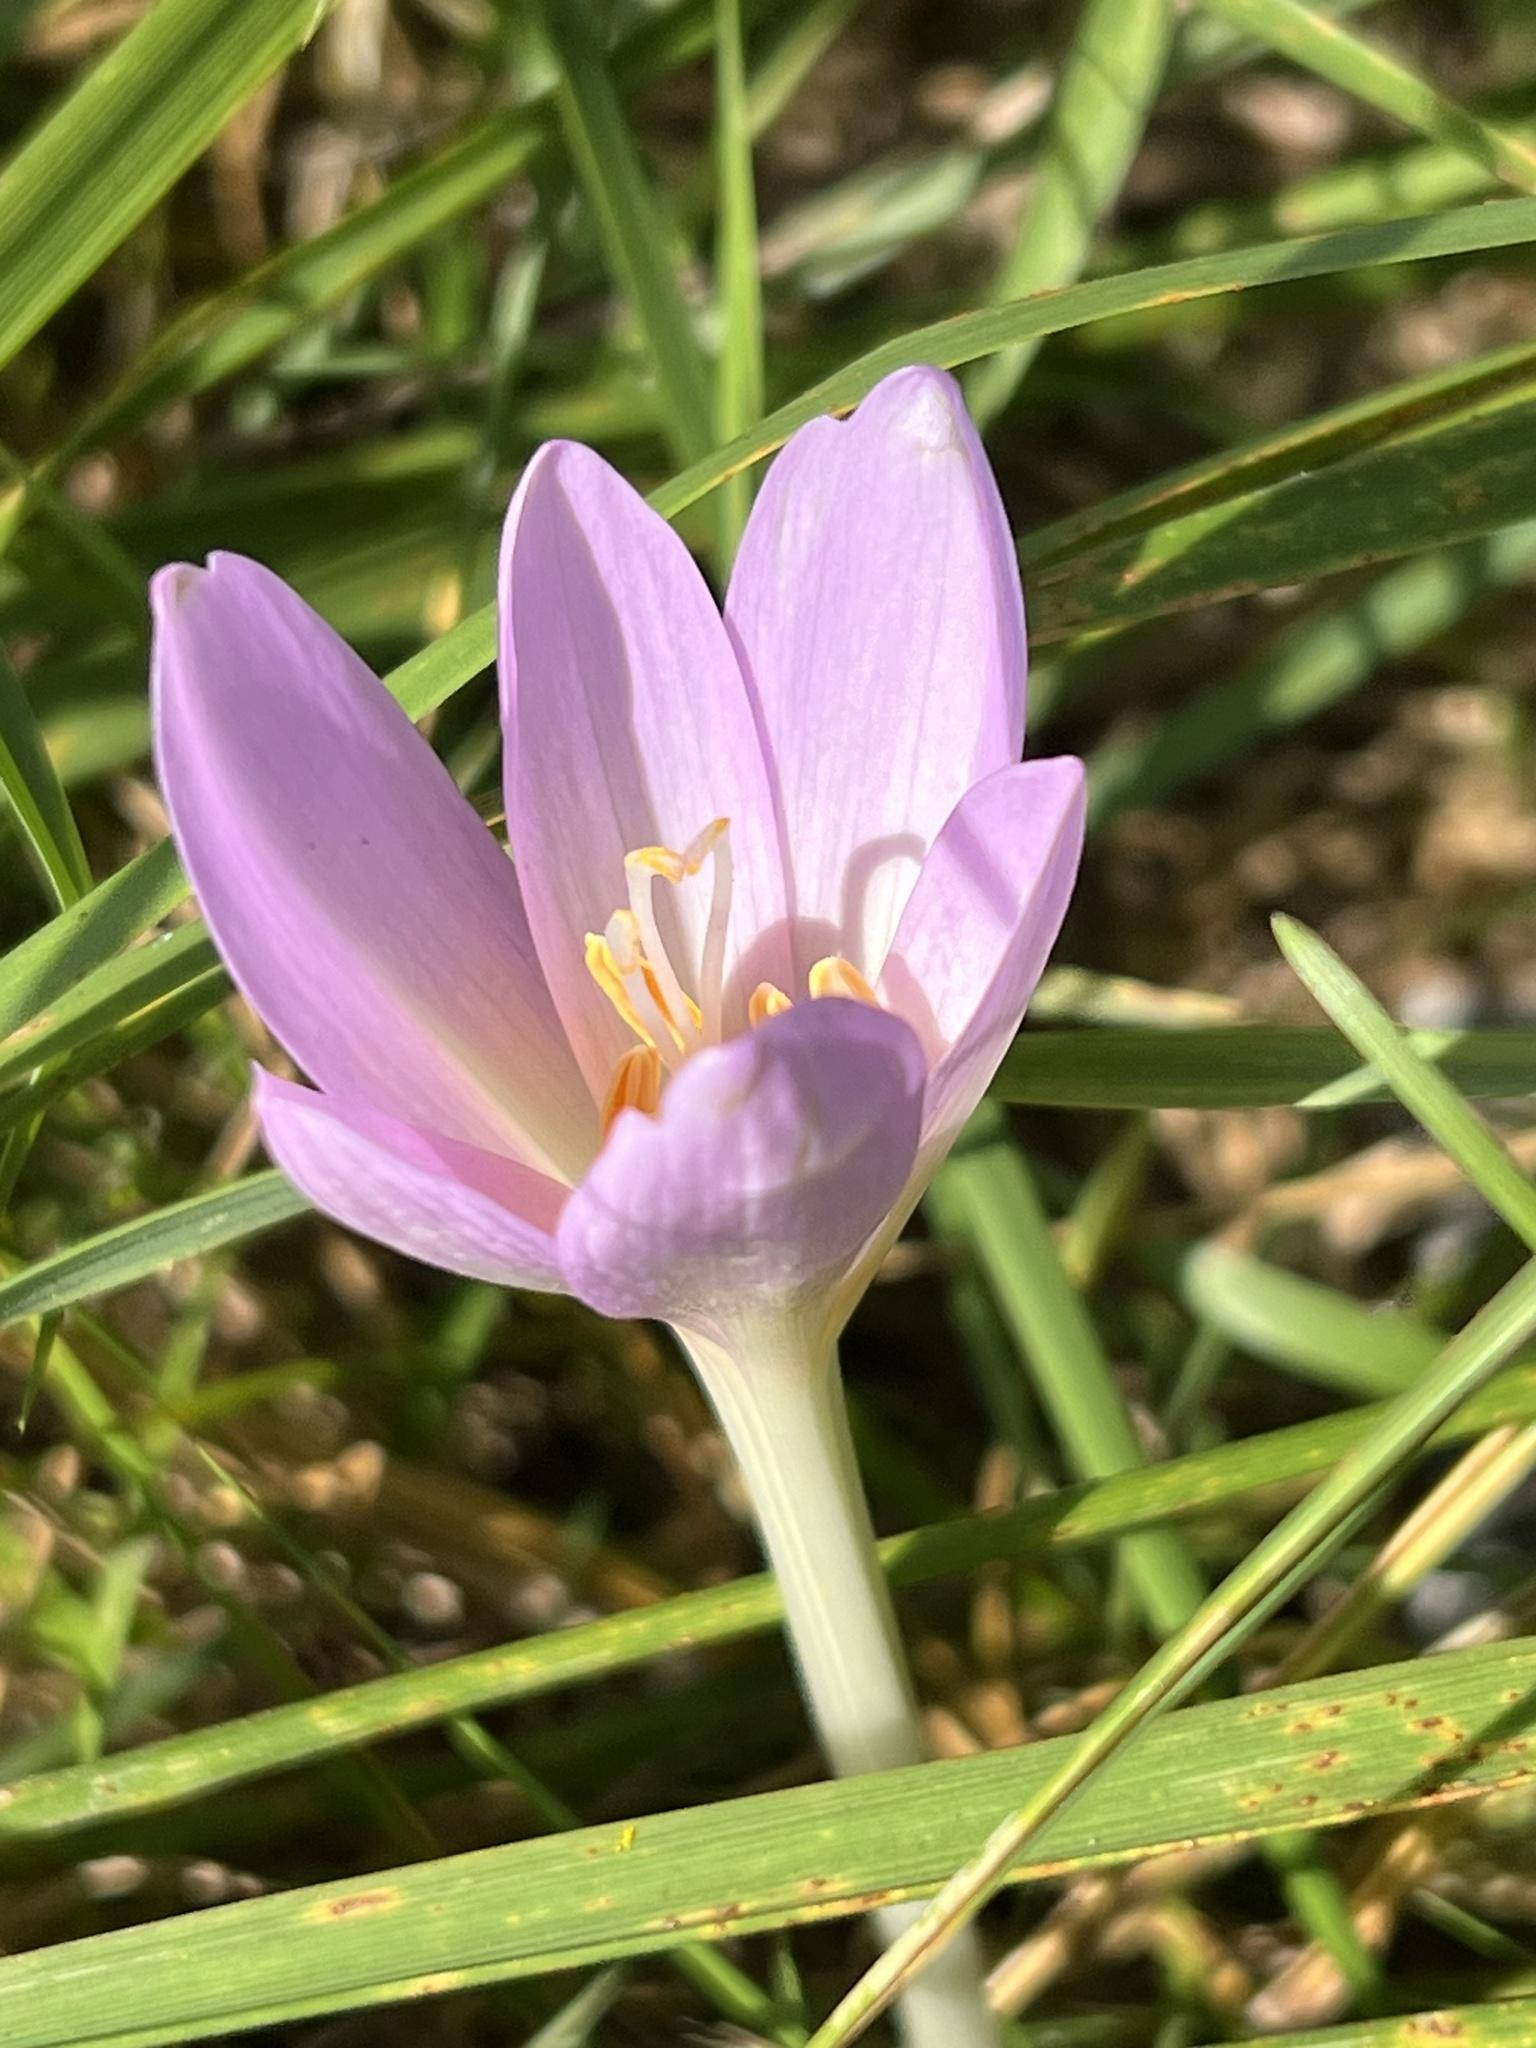Colchicum autumnale L: (111, 311, 1275, 1871)
